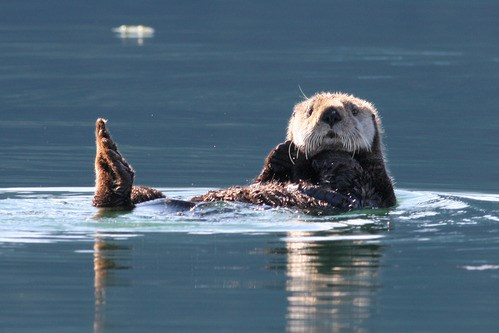otter: (255, 70, 395, 245)
